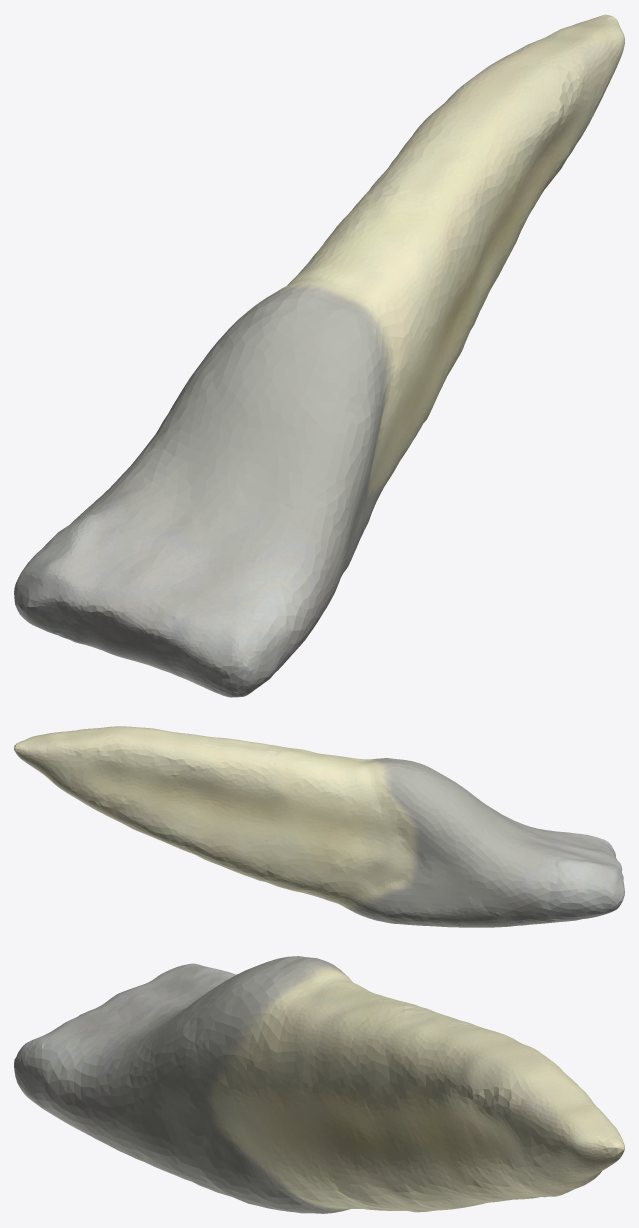
3 renders of one model, top to bottom at view 1: azimuth 30°, elevation 25°; view 2: azimuth 150°, elevation 25°; view 3: azimuth 270°, elevation 25°, orthographic. The views are drawn at different scales.
Visible parts, largest first — view 1: 3MFMeshParent_0; view 2: 3MFMeshParent_0; view 3: 3MFMeshParent_0.
Boxes of the visible parts, left/top/right/bottom form: 3MFMeshParent_0: left=14, top=14, right=624, bottom=697; 3MFMeshParent_0: left=14, top=726, right=624, bottom=927; 3MFMeshParent_0: left=14, top=956, right=624, bottom=1213.
Size of the model in its own units: 0.512 by 0.1992 by 0.3575.
1 material, 1 textured.
